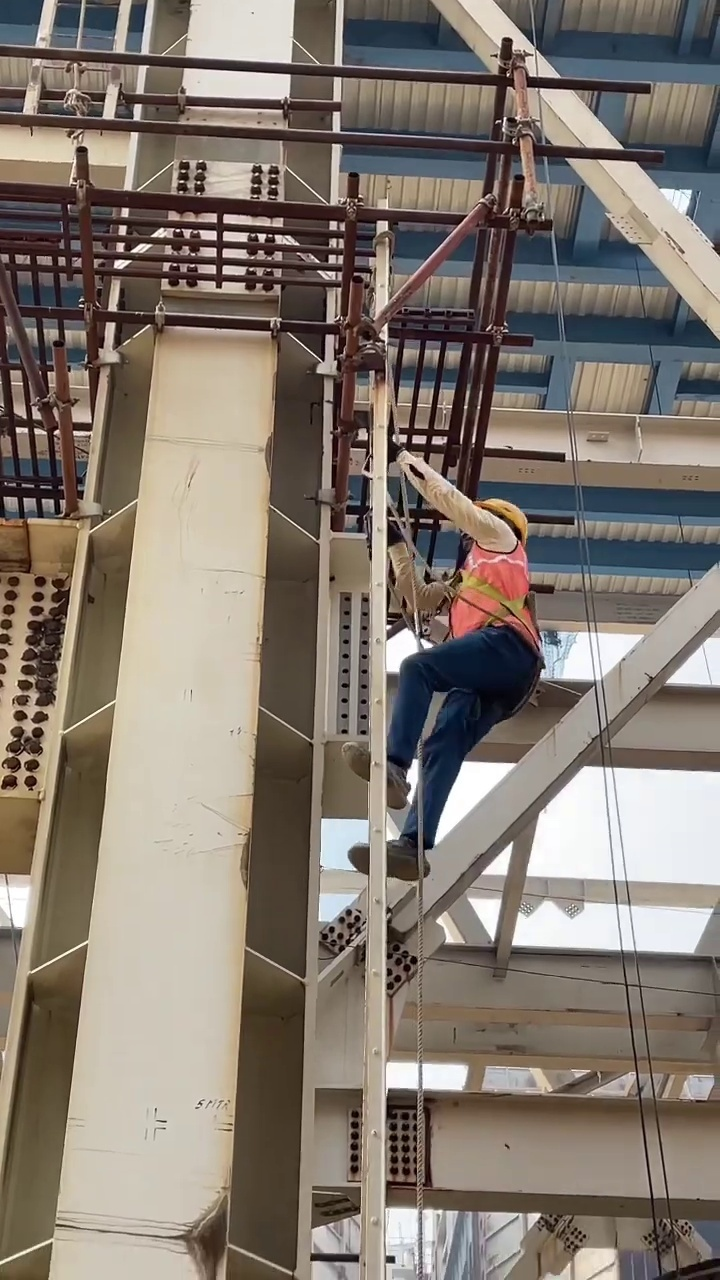Helmet: (478, 498, 530, 537)
Person: (341, 496, 545, 872)
Safety_Harness: (424, 545, 545, 676)
Safety_shoes: (340, 742, 410, 811), (348, 837, 429, 880)
